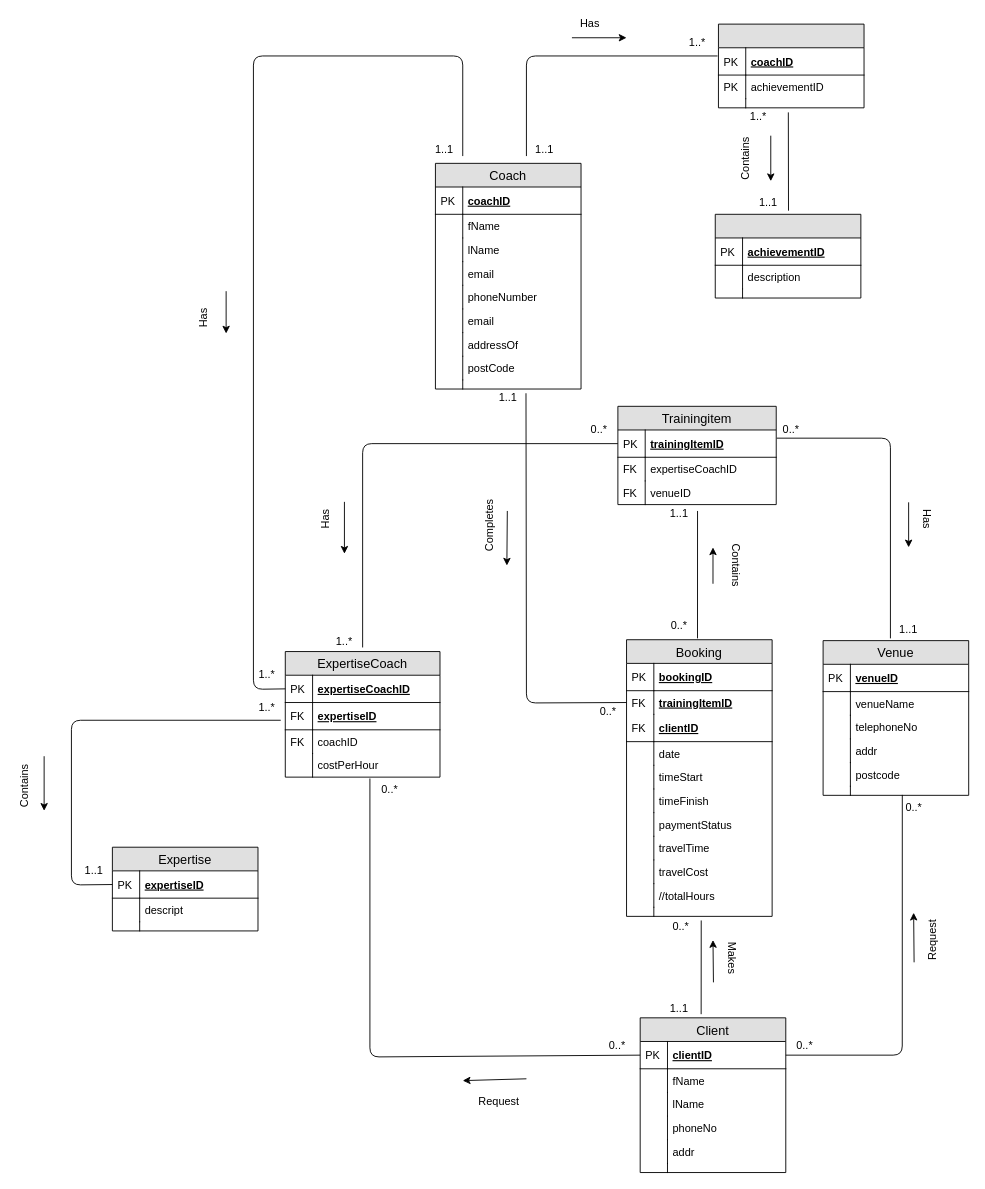
Some shapes in this 985 by 1189 pixel diagram are drawn without their labels. The box of each missing label's shape, as (x1, y1, x2, y2) in pixels:
Achievements: (714, 213, 861, 298)
CoachAchievements: (718, 23, 864, 108)
